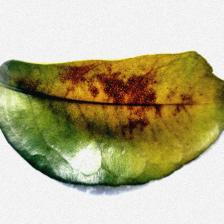black spot: (52, 64, 177, 138)
